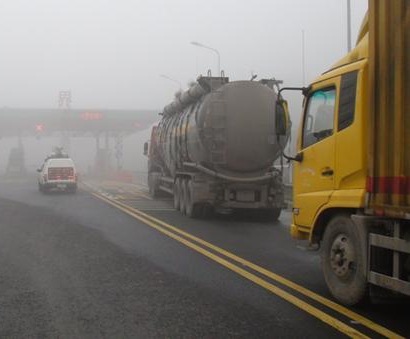bus: (274, 1, 410, 307)
car: (35, 152, 77, 195)
